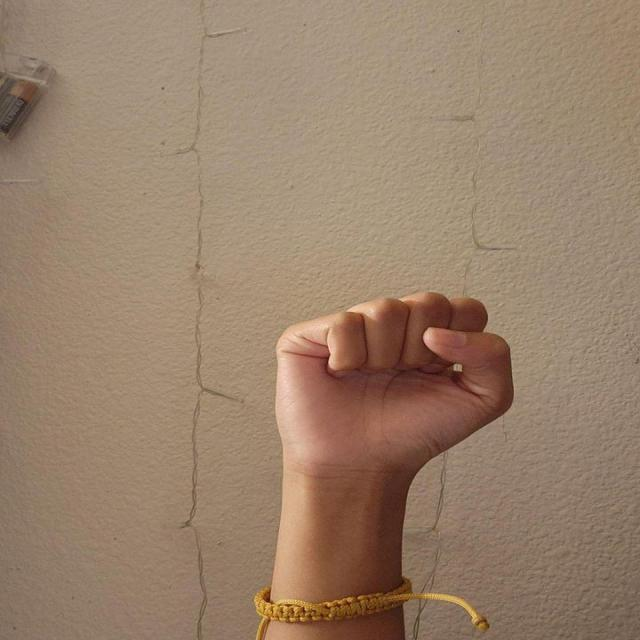S: (270, 288, 516, 472)
